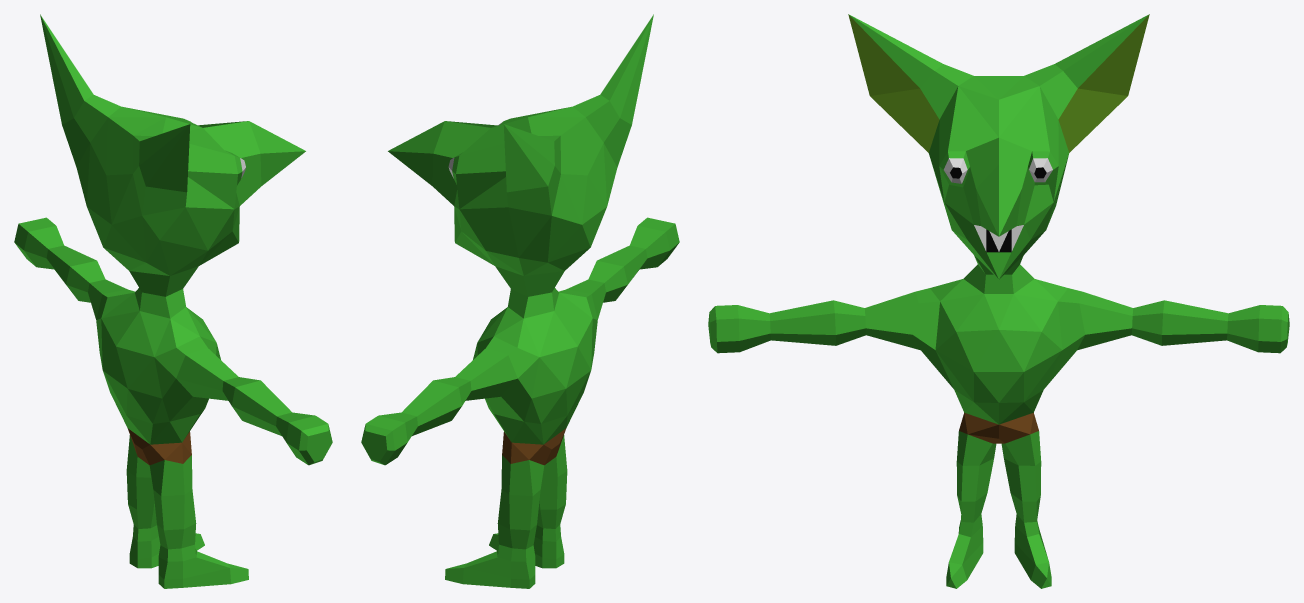
Rendered from goblin.fbx.
The picture shows the model from 3 angles, left to right: view 1: azimuth 30°, elevation 25°; view 2: azimuth 150°, elevation 25°; view 3: azimuth 270°, elevation 25°; orthographic projection.
Visible parts, largest first — view 1: Icosphere; view 2: Icosphere; view 3: Icosphere.
Part boxes in pixels (x1,y1,x2,y2): Icosphere: (14,14,332,588); Icosphere: (361,14,679,588); Icosphere: (708,14,1289,588).
Bounding box in the file's own units: 295 × 706 × 715.
